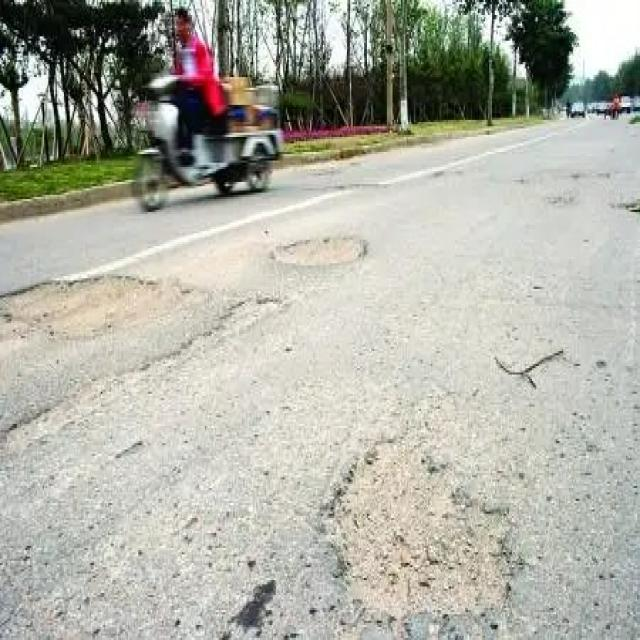Pothole: (327, 419, 526, 623), (265, 229, 381, 276)
